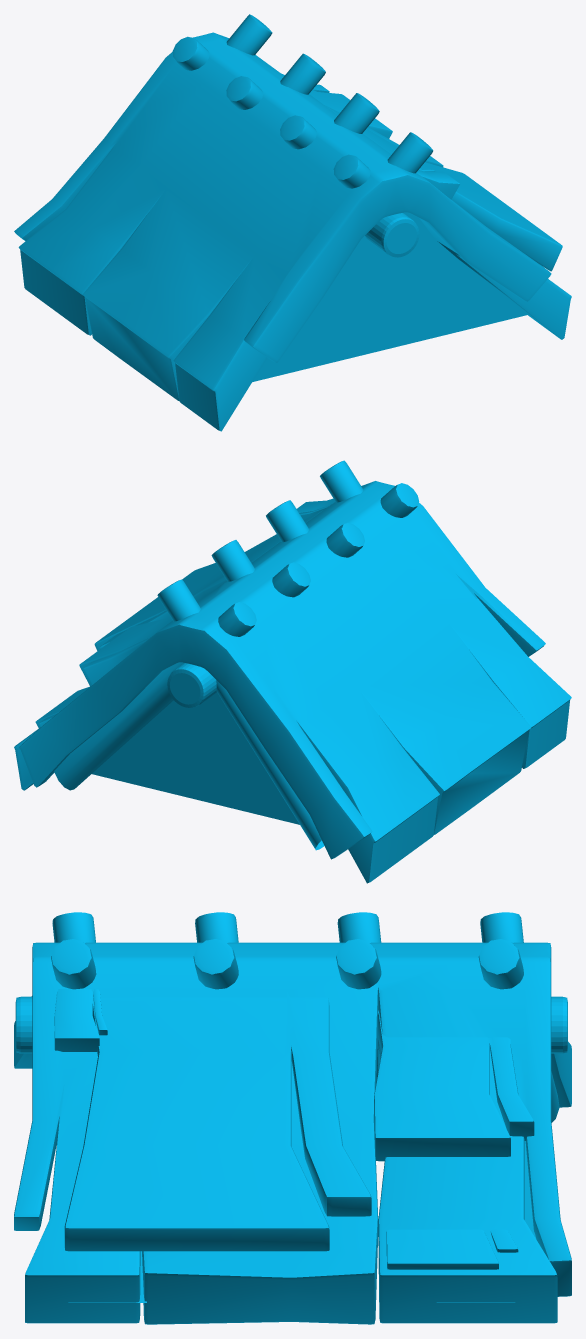
File: SM_Clay_Roof_04.fbx
3 renders of one model, top to bottom at view 1: azimuth 30°, elevation 25°; view 2: azimuth 150°, elevation 25°; view 3: azimuth 270°, elevation 25°, orthographic. The views are drawn at different scales.
Visible parts, largest first — view 1: SM_Clay_Roof_04; view 2: SM_Clay_Roof_04; view 3: SM_Clay_Roof_04.
Part boxes in pixels (<box>): SM_Clay_Roof_04: <box>14,14,571,431</box>; SM_Clay_Roof_04: <box>14,460,571,883</box>; SM_Clay_Roof_04: <box>14,912,571,1324</box>.
Bounding box in the file's own units: 1.03 × 0.6432 × 1.03.
